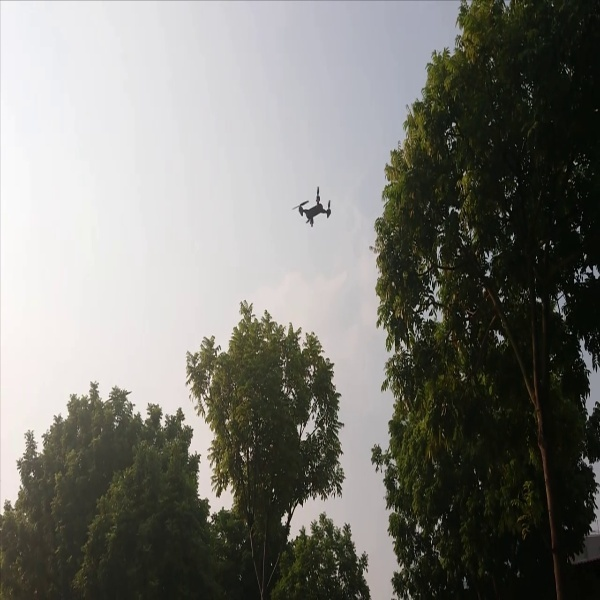drone: (290, 182, 333, 240)
